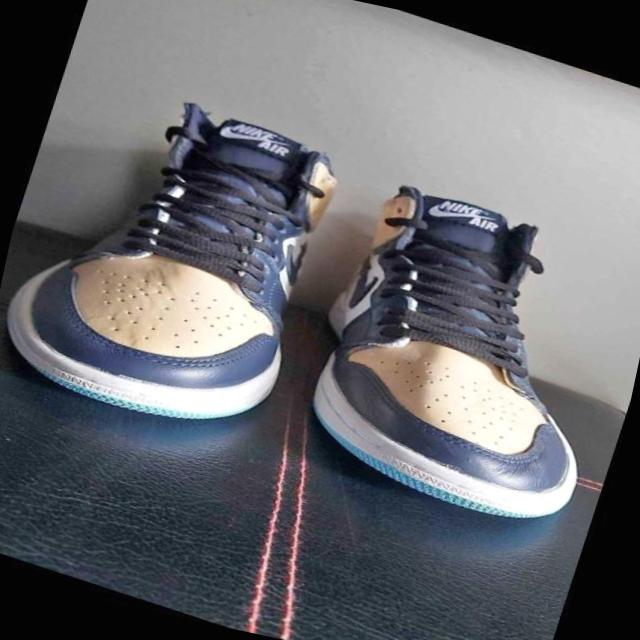nike_fake_jordan: (0, 63, 365, 460), (271, 158, 640, 543)
